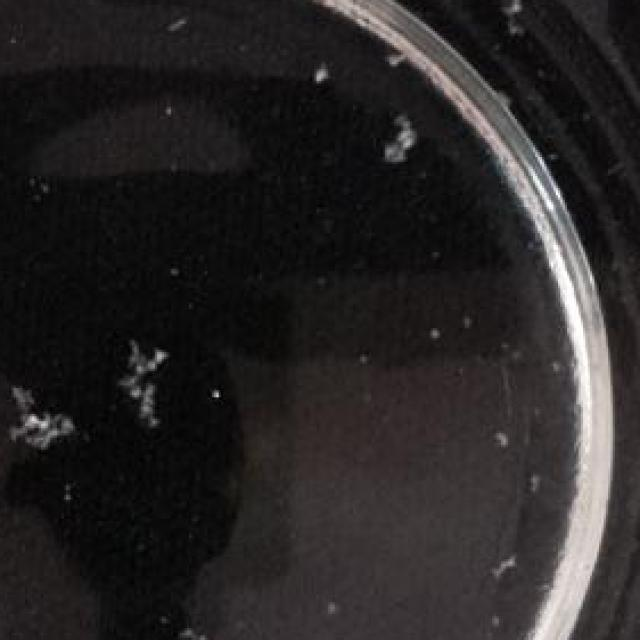Microplastic: (0, 355, 80, 459), (102, 331, 178, 433), (371, 105, 435, 190), (485, 0, 533, 38), (483, 416, 515, 459), (519, 462, 551, 499), (488, 545, 522, 578), (185, 621, 239, 640), (164, 10, 198, 40), (300, 60, 334, 90), (387, 40, 412, 74)
